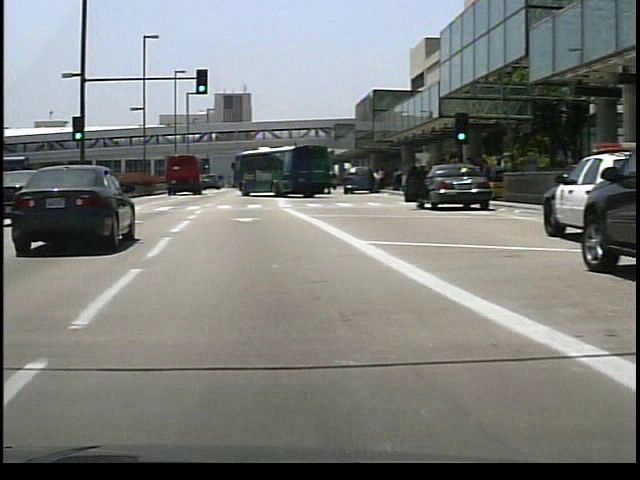person: (367, 168, 378, 194)
